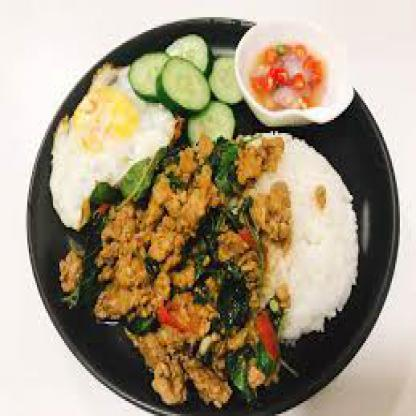Basil Rice: (26, 18, 390, 410)
